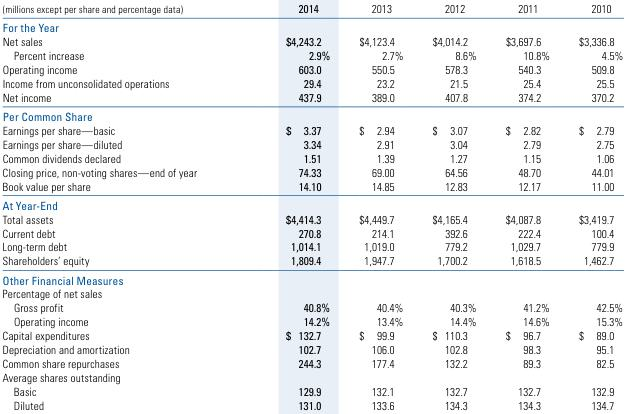table: (1, 0, 622, 411)
table column: (1, 0, 240, 411), (240, 0, 343, 411), (343, 0, 417, 411), (417, 0, 490, 411), (490, 0, 563, 411), (563, 0, 622, 411)
table column header: (1, 0, 622, 17)
table projected row header: (1, 17, 622, 34), (1, 194, 622, 211), (1, 269, 622, 286), (1, 106, 622, 122), (1, 286, 622, 300), (1, 369, 622, 383)
table row: (1, 0, 622, 17), (1, 17, 622, 34), (1, 89, 622, 106), (1, 194, 622, 211), (1, 269, 622, 286), (1, 106, 622, 122), (1, 178, 622, 194), (1, 253, 622, 269), (1, 34, 622, 48), (1, 61, 622, 75), (1, 75, 622, 89), (1, 122, 622, 136), (1, 136, 622, 150), (1, 150, 622, 164), (1, 164, 622, 178), (1, 211, 622, 225), (1, 225, 622, 239), (1, 239, 622, 253), (1, 286, 622, 300), (1, 300, 622, 314), (1, 327, 622, 341), (1, 341, 622, 355), (1, 355, 622, 369), (1, 369, 622, 383), (1, 383, 622, 397), (1, 397, 622, 411), (1, 48, 622, 61), (1, 314, 622, 327)
